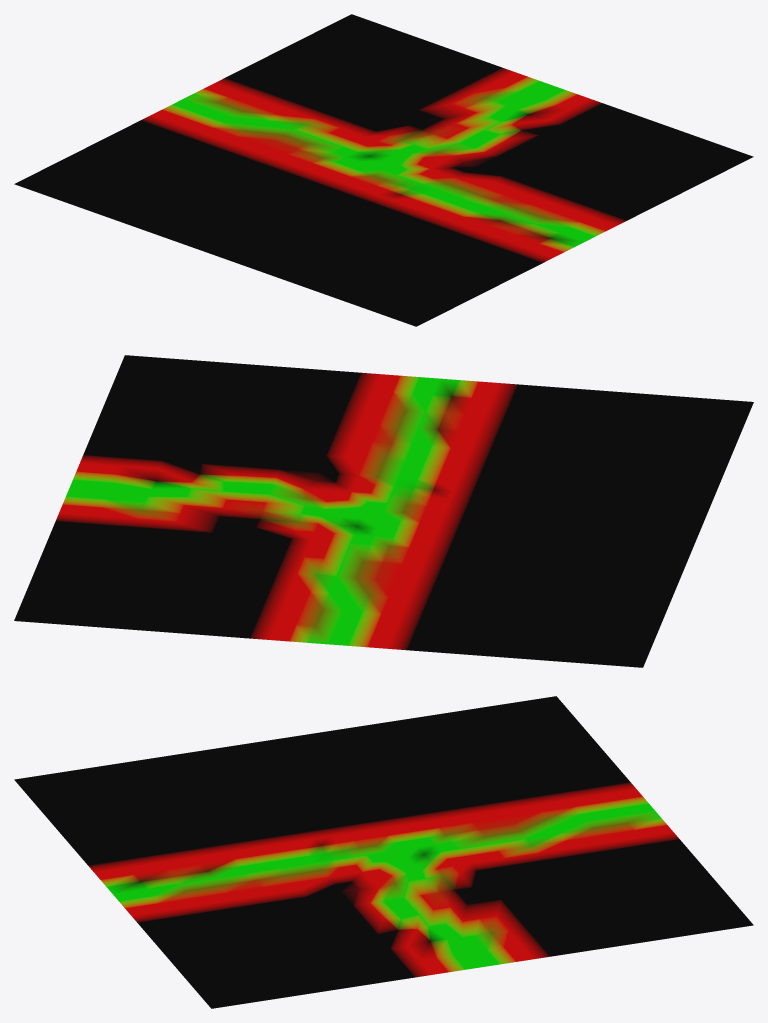
The model's file is Section_WayLineThree01_Forest_Terrain.fbx.
3 renders of one model, top to bottom at view 1: azimuth 30°, elevation 25°; view 2: azimuth 150°, elevation 25°; view 3: azimuth 270°, elevation 25°, orthographic. The views are drawn at different scales.
Visible parts, largest first — view 1: Section_WayLineThree01_Forest_Terrain; view 2: Section_WayLineThree01_Forest_Terrain; view 3: Section_WayLineThree01_Forest_Terrain.
Part boxes in pixels (left/top/right/bottom): Section_WayLineThree01_Forest_Terrain: left=14, top=14, right=753, bottom=326; Section_WayLineThree01_Forest_Terrain: left=14, top=355, right=753, bottom=667; Section_WayLineThree01_Forest_Terrain: left=14, top=696, right=753, bottom=1008.
Size of the model in its own units: 10254 by 0 by 10254.
